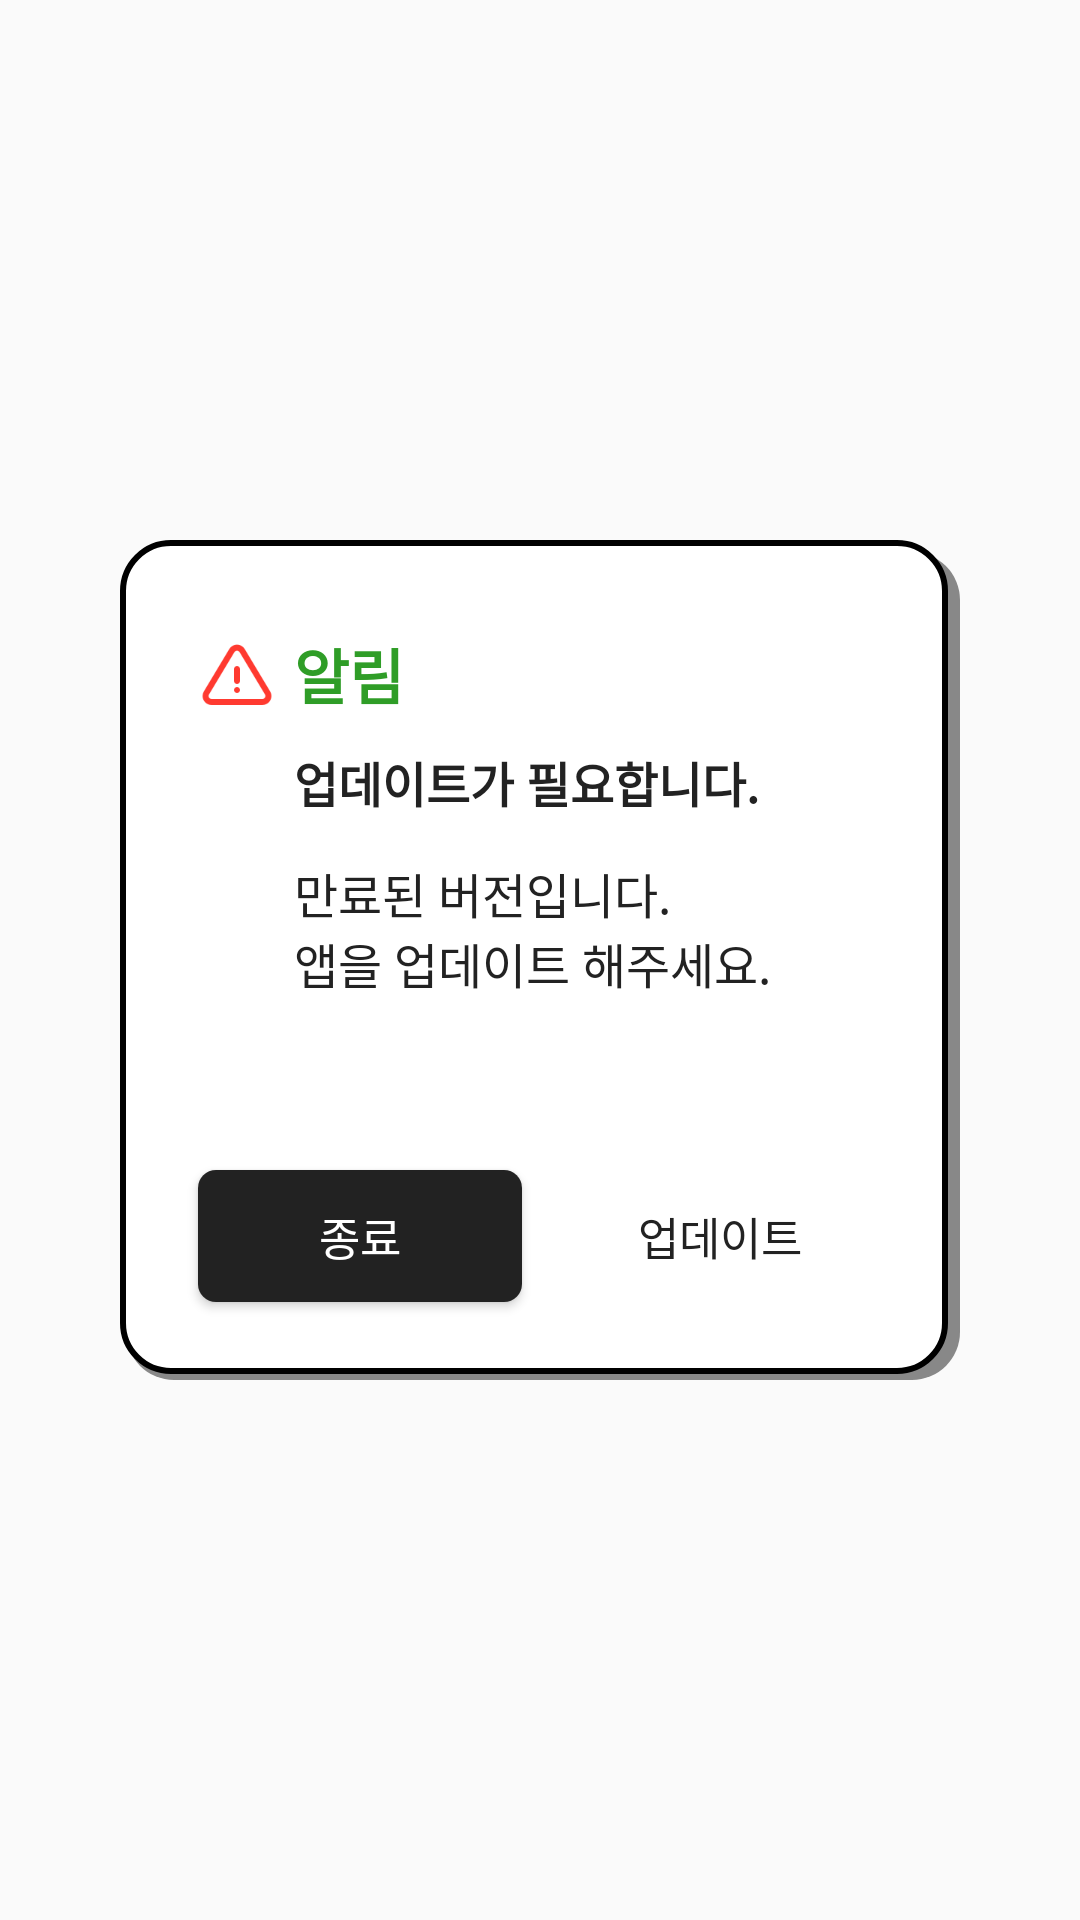

Where to tap for icons on this 1080*1920 app screen, as (x=x, y=y):
popup caution: (x=237, y=674)
